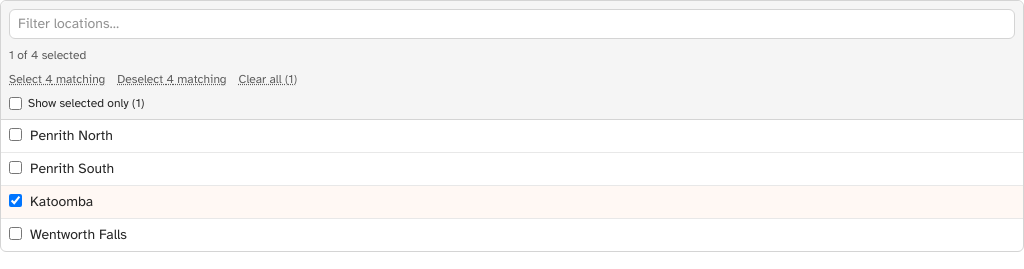
Test: MultiSelectList › scopes 'Select N matching' to the filtered subset, leaving others untouched
In the field labelled "Filter locations": (512, 24) x1=9 y1=9 x2=1015 y2=39, type "penrith"
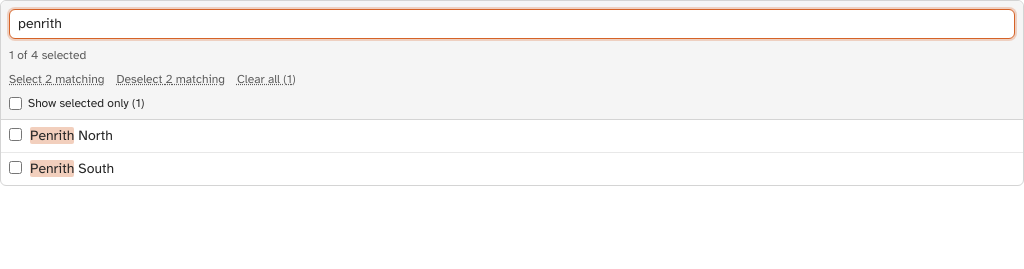
Click the button "Select 2 matching": click(57, 79) x1=9 y1=71 x2=104 y2=87
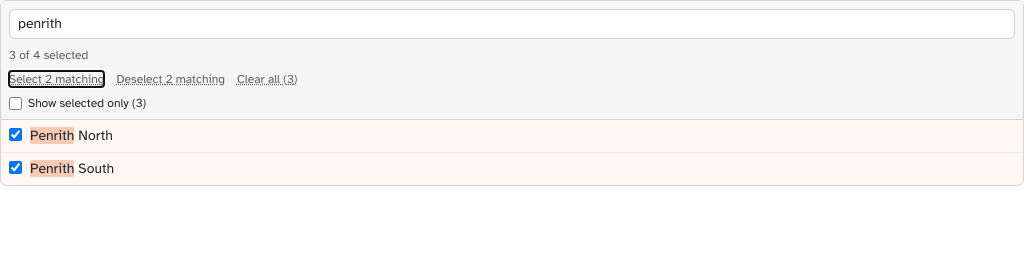
Check: the checkbox labelled "Penrith North" is checked, box x1=9 y1=128 x2=22 y2=141
Check: the checkbox labelled "Penrith South" is checked, box x1=9 y1=161 x2=22 y2=174
Clear the field named "Filter locations": (512, 24) x1=9 y1=9 x2=1015 y2=39
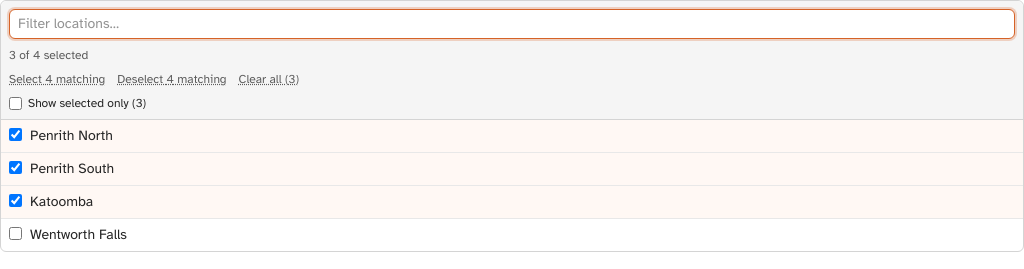
Check: the checkbox labelled "Katoomba" is checked, box x1=9 y1=194 x2=22 y2=207
Check: the checkbox labelled "Wentworth Falls" is not checked, box x1=9 y1=227 x2=22 y2=240
